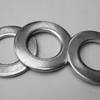No thread: (23, 30, 65, 61), (77, 37, 100, 76)
